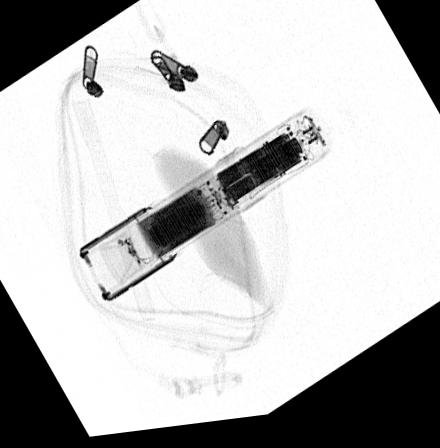Baton: (75, 112, 332, 308)
